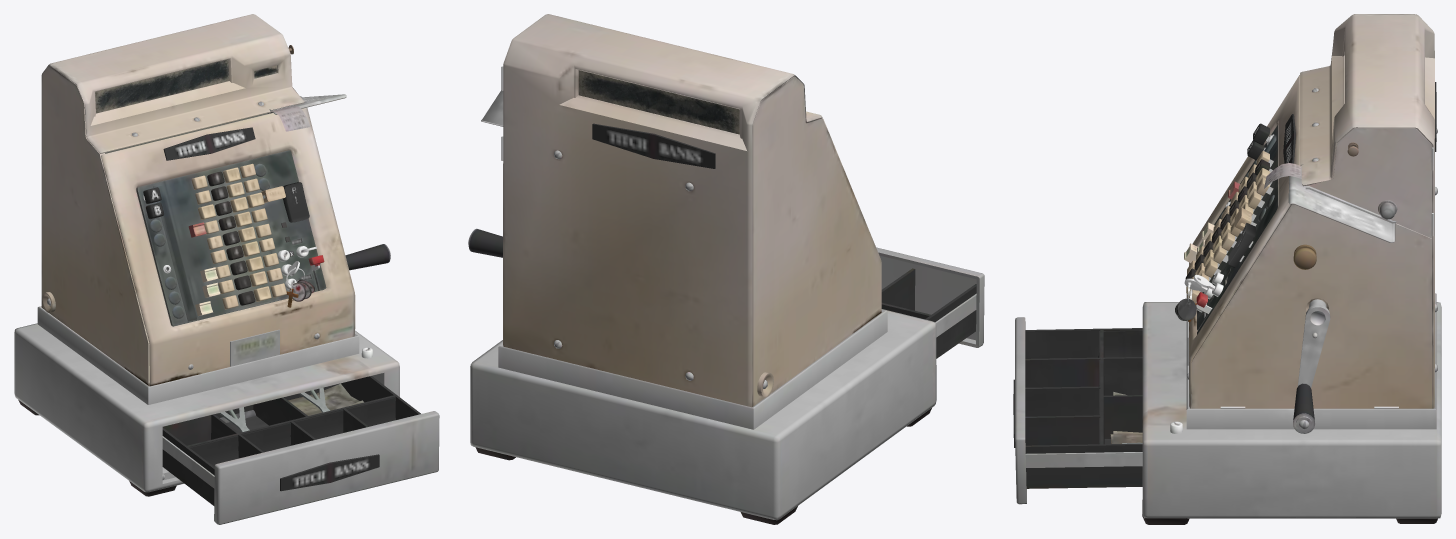
File: CashRegister_01.glb
3 renders of one model, left to right at view 1: azimuth 30°, elevation 25°; view 2: azimuth 150°, elevation 25°; view 3: azimuth 270°, elevation 25°, orthographic. The views are drawn at different scales.
Visible parts, largest first — view 1: CashRegister_01_body; view 2: CashRegister_01_body; view 3: CashRegister_01_body.
Boxes of the visible parts, <box> form: CashRegister_01_body: <box>14,14,439,524</box>; CashRegister_01_body: <box>468,14,984,524</box>; CashRegister_01_body: <box>1013,14,1441,524</box>.
Bounding box in the file's own units: 0.6005 × 0.6214 × 0.6242.
2 materials, 2 textured.
